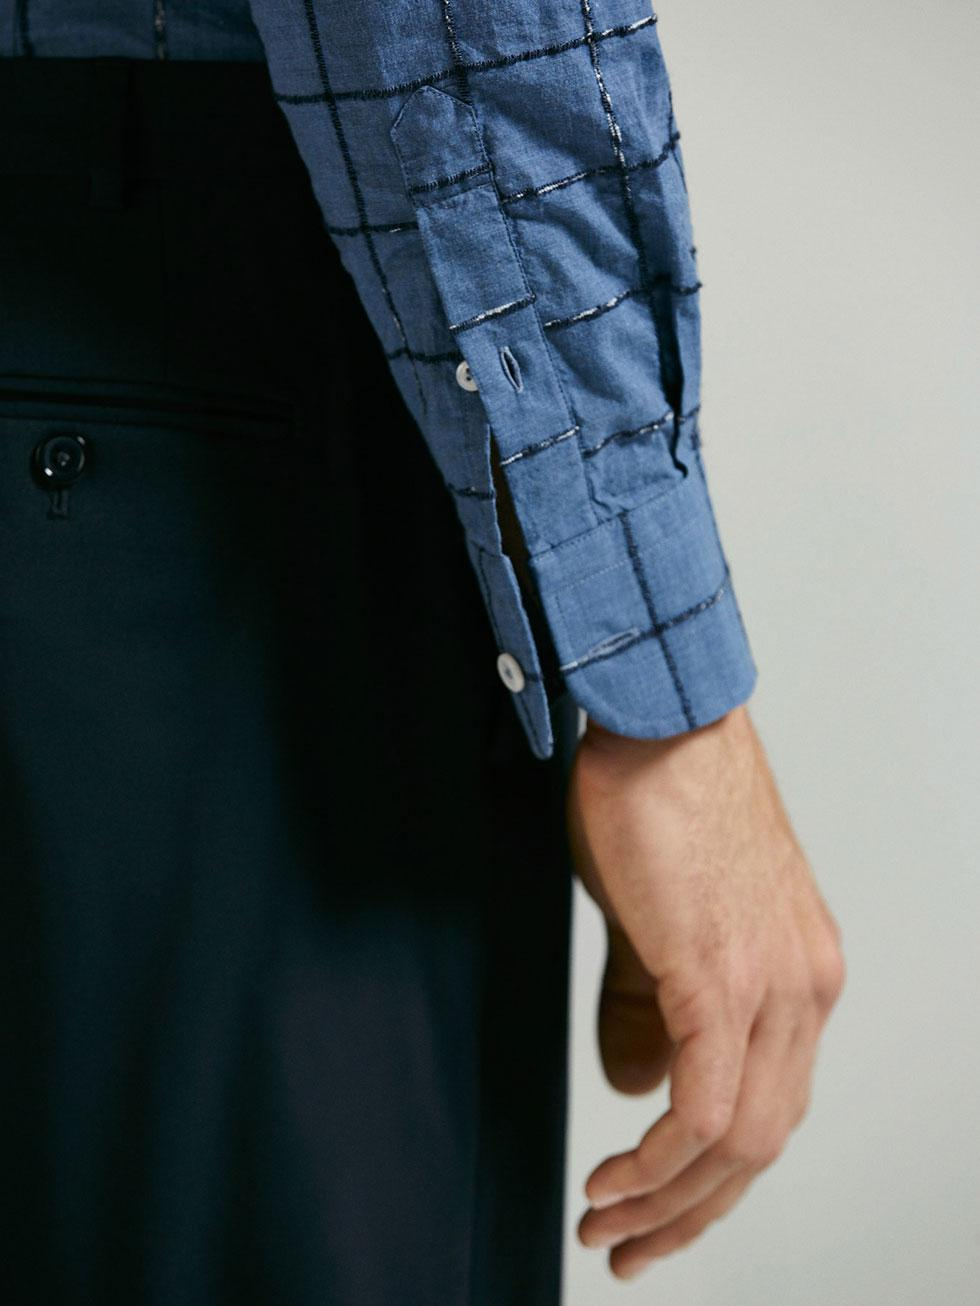teeshirt: (1, 1, 801, 755)
